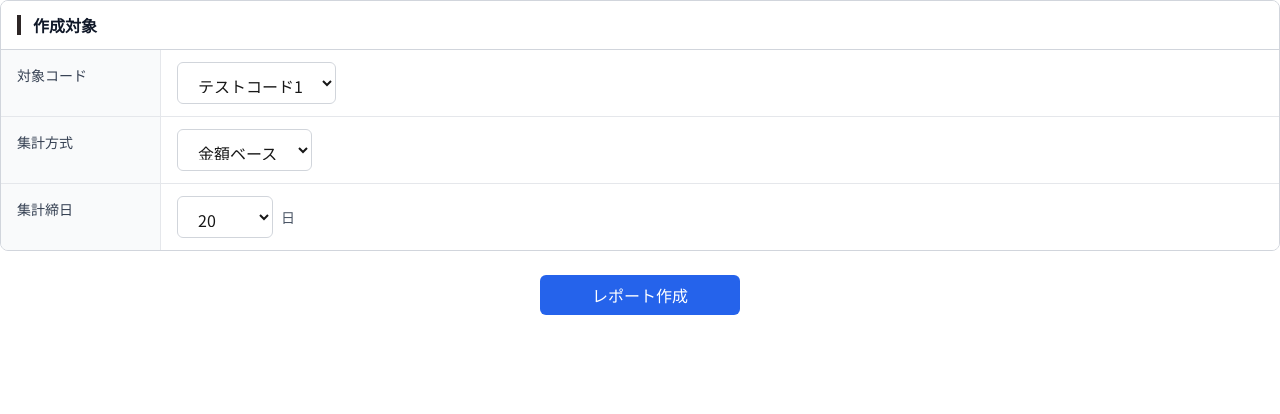
Test: EcoReportForm › APIエラーが表示される
This screenshot has width=1280, height=414.
Step 1. Click the button "レポート作成" → [640, 295], box [540,275,740,315]
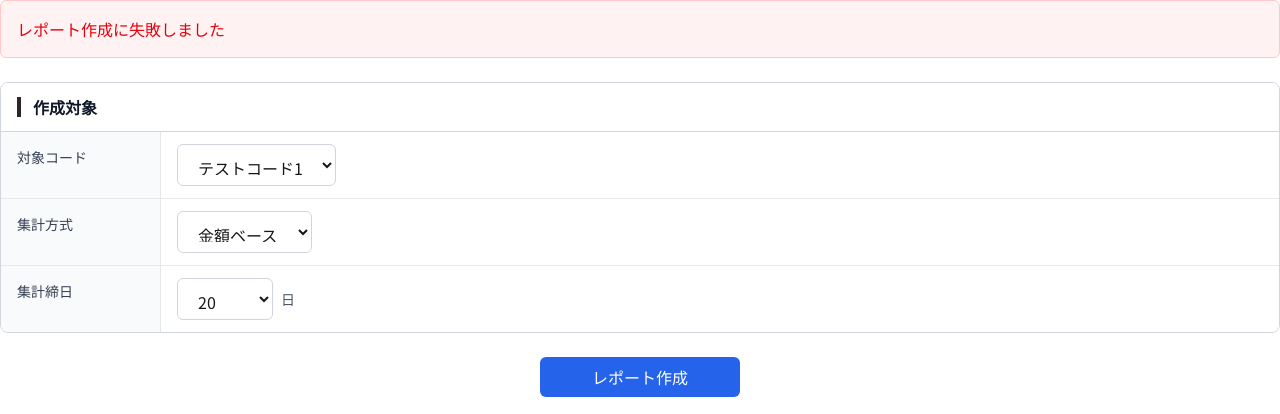
Expected: the text "レポート作成に失敗しました" is shown, [17,17,225,41]
